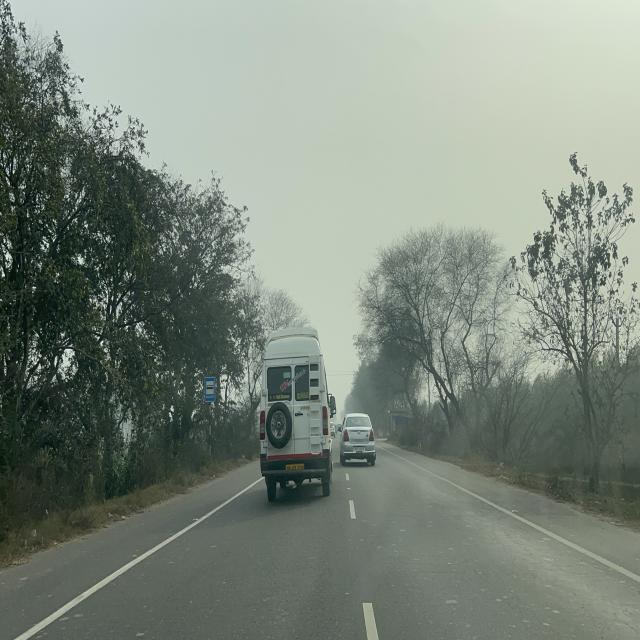INFORMATION: (204, 375, 216, 403)
